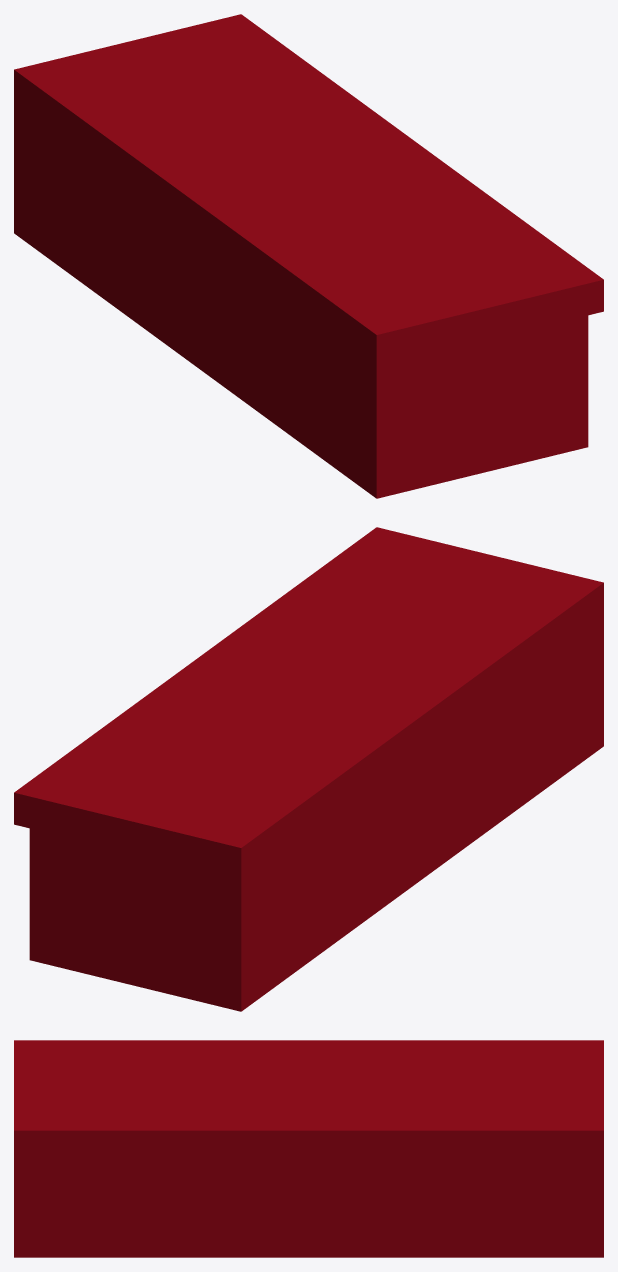
The model's file is 速食店.fbx_Counter_Platform.fbx.
3 renders of one model, top to bottom at view 1: azimuth 30°, elevation 25°; view 2: azimuth 150°, elevation 25°; view 3: azimuth 270°, elevation 25°, orthographic. The views are drawn at different scales.
Visible parts, largest first — view 1: Counter&Platform.001; view 2: Counter&Platform.001; view 3: Counter&Platform.001.
Boxes of the visible parts, bbox=[...] form: Counter&Platform.001: bbox=[14, 14, 603, 498]; Counter&Platform.001: bbox=[14, 527, 603, 1011]; Counter&Platform.001: bbox=[14, 1040, 603, 1257].
Bounding box in the file's own units: 145 × 99.71 × 400.
